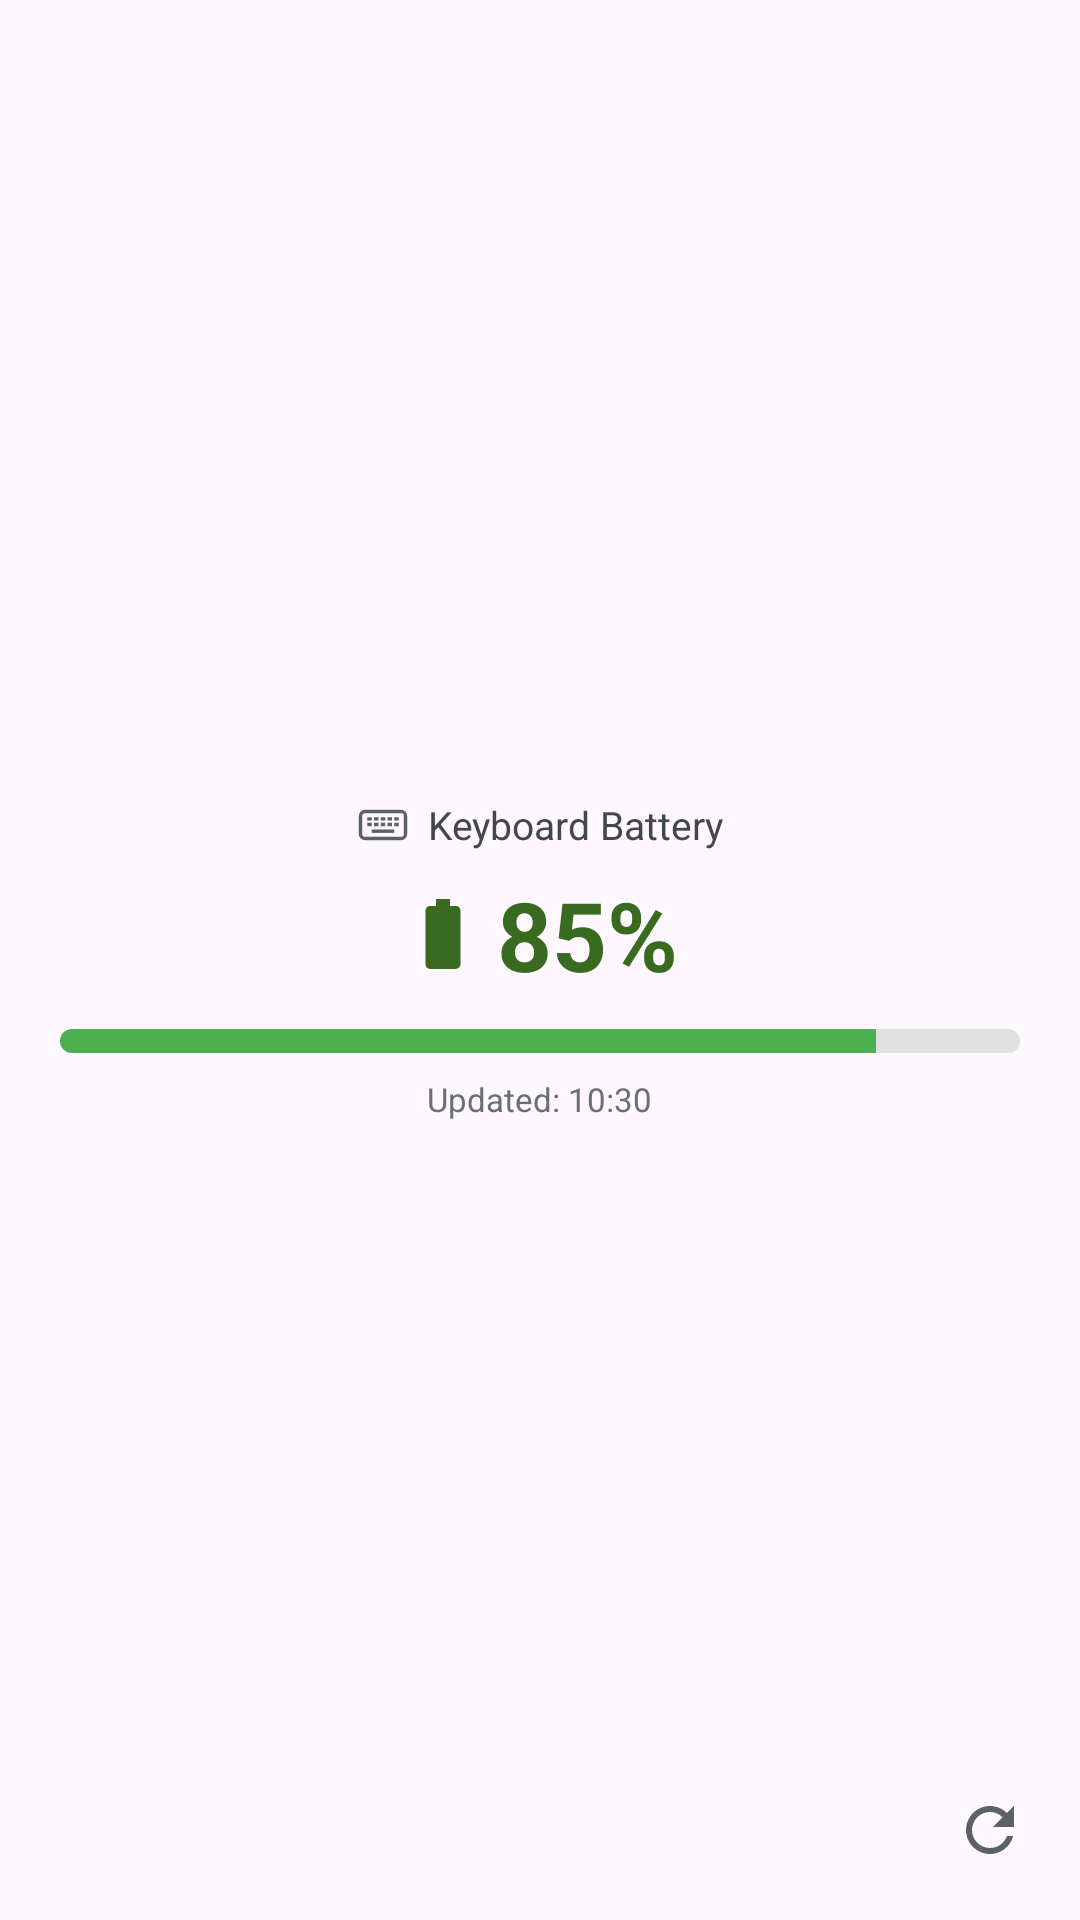

Icons on this 1080px x 1920px Android screen, each with the point to tap as (x=x, y=y):
Refresh: (x=990, y=1830)
